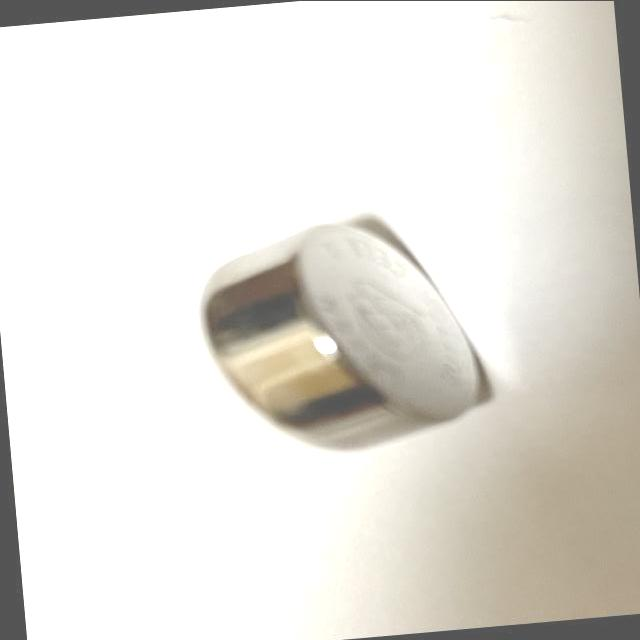COIN: (190, 211, 493, 464)
